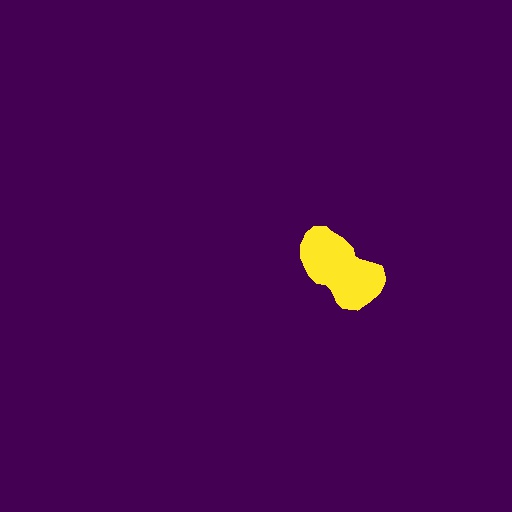Gliomia_tumour: (300, 226, 386, 311)
